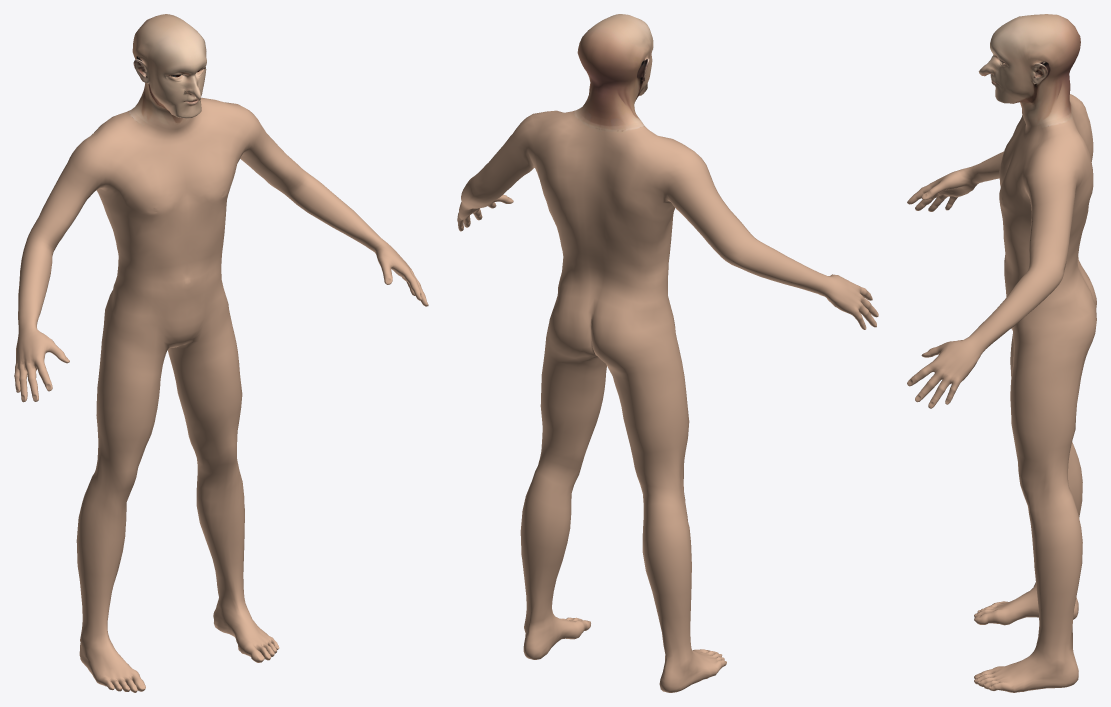
Rendered from head_base_v1_1_tex.glb.
3 views of the same model, side by side, from view 1: azimuth 30°, elevation 25°; view 2: azimuth 150°, elevation 25°; view 3: azimuth 270°, elevation 25° (orthographic).
Parts seen in each view (by area): view 1: body; view 2: body; view 3: body.
Boxes of the visible parts, left/top/right/bottom form: body: left=14, top=14, right=428, bottom=692; body: left=457, top=14, right=878, bottom=692; body: left=907, top=14, right=1096, bottom=692.
Size of the model in its own units: 1.11 by 1.66 by 0.4497.
Materials: 3 (3 with a texture image).
